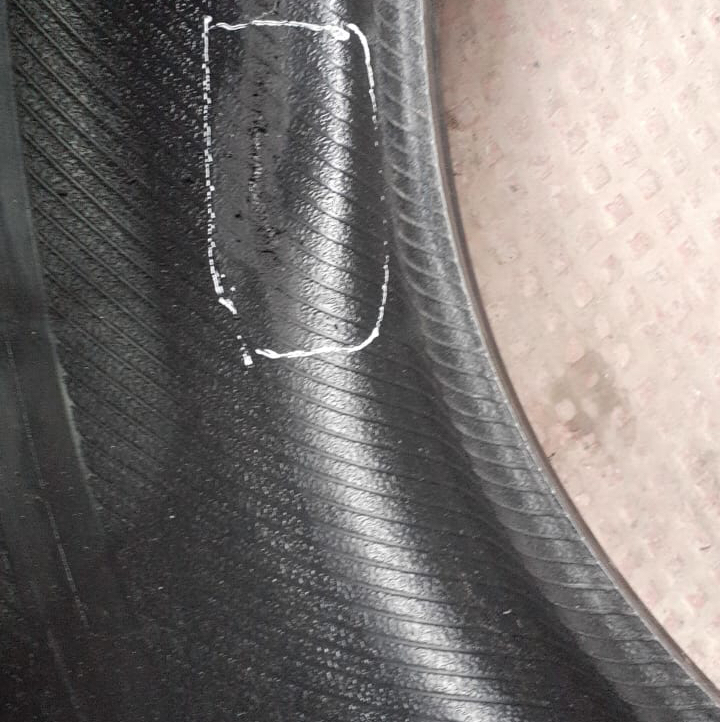CBU: (220, 42, 293, 307)
